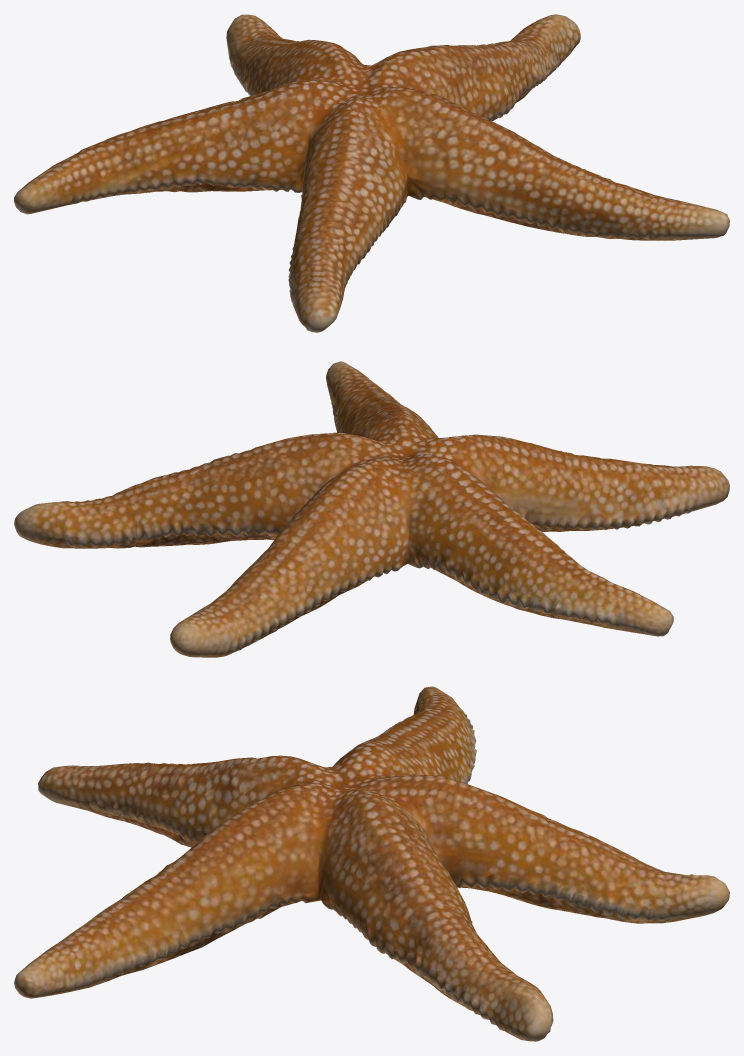
Rendered from star2.glb.
3 views of the same model, one above another, from view 1: azimuth 30°, elevation 25°; view 2: azimuth 150°, elevation 25°; view 3: azimuth 270°, elevation 25° (orthographic). The views are drawn at different scales.
Parts seen in each view (by area): view 1: mesh_node; view 2: mesh_node; view 3: mesh_node.
Part boxes in pixels (x1,y1,x2,y2): mesh_node: (14,14,729,332); mesh_node: (14,361,729,657); mesh_node: (14,686,729,1041).
Bounding box in the file's own units: 1.9 × 0.352 × 1.77.
Materials: 1 (1 with a texture image).
